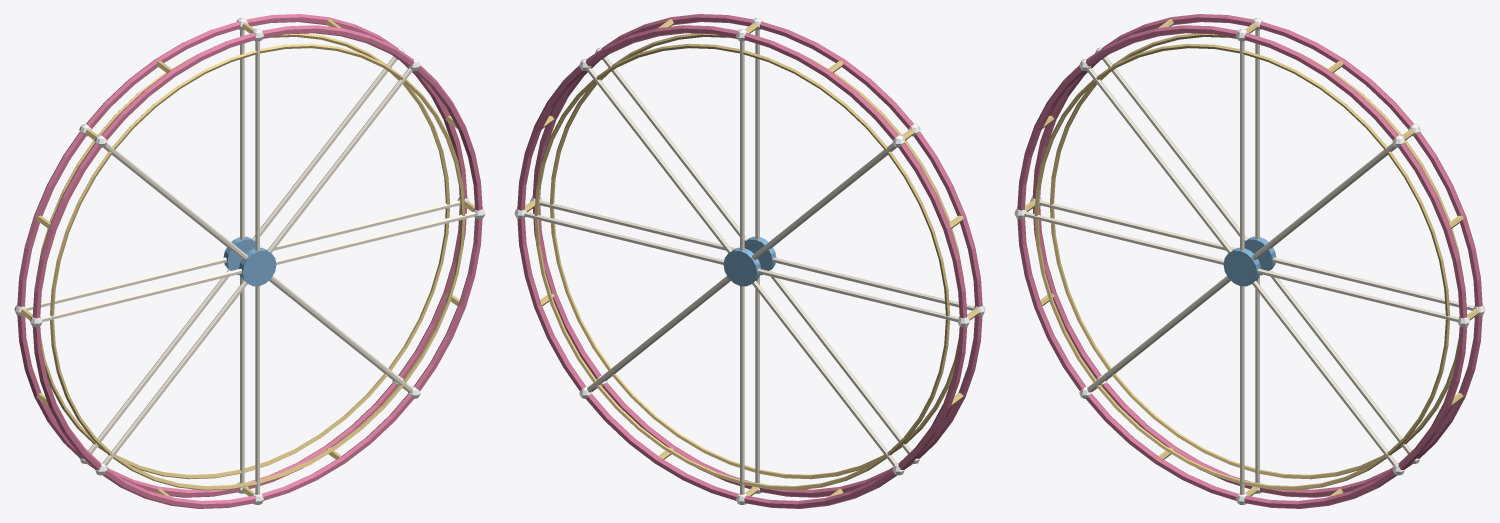
Rendered from noria_rueda.glb.
The picture shows the model from 3 angles, left to right: view 1: azimuth 30°, elevation 25°; view 2: azimuth 150°, elevation 25°; view 3: azimuth 330°, elevation 25°; orthographic projection.
Visible parts, largest first — view 1: noria_rueda; view 2: noria_rueda; view 3: noria_rueda.
Part boxes in pixels (box(x1,y1,x2,y2)): noria_rueda: box(14, 14, 485, 508); noria_rueda: box(514, 14, 985, 508); noria_rueda: box(1014, 14, 1485, 508).
Bounding box in the file's own units: 10.26 × 10.26 × 0.86.
